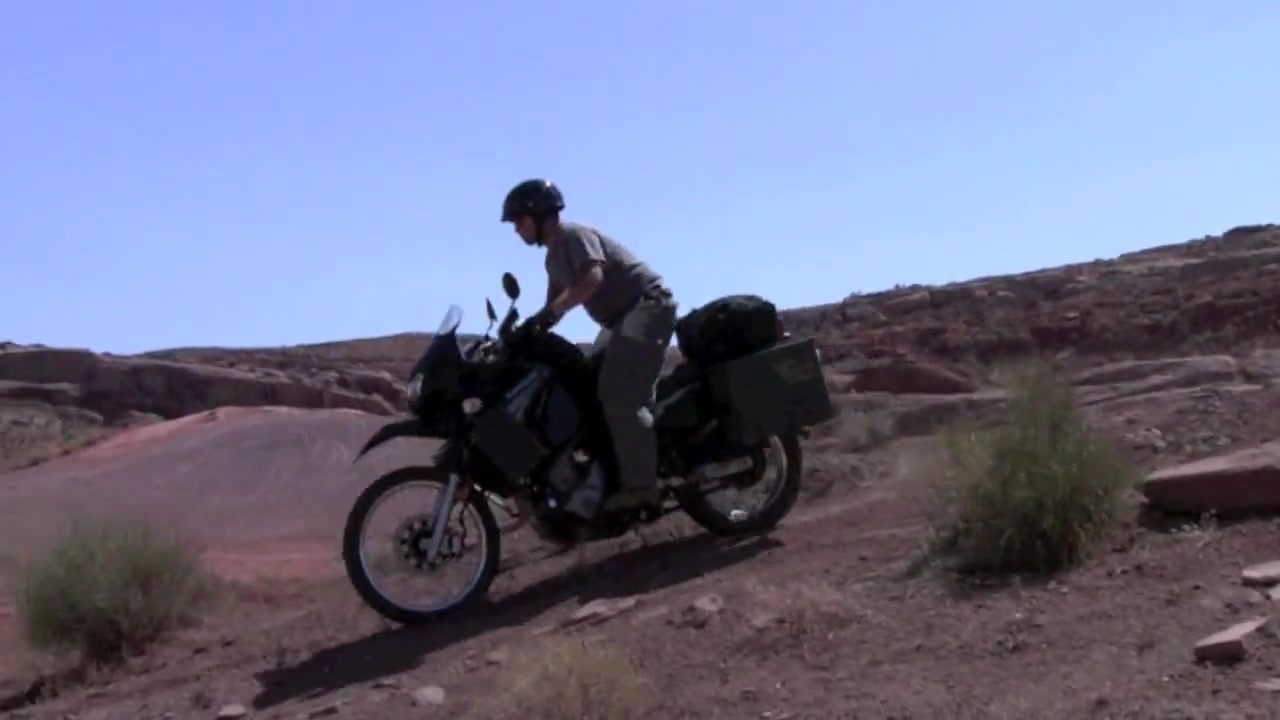motorbike: (340, 270, 832, 632)
